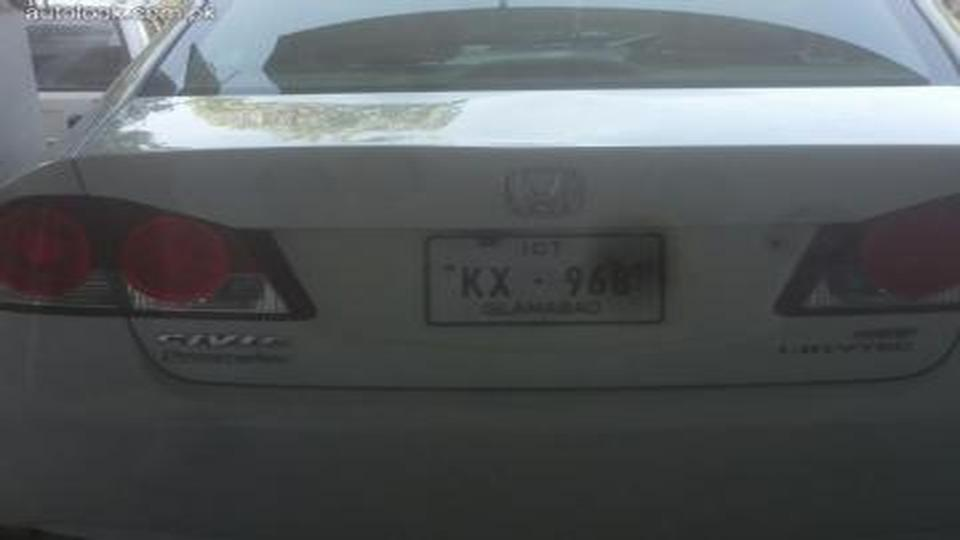NumberPlate: (424, 221, 676, 333)
